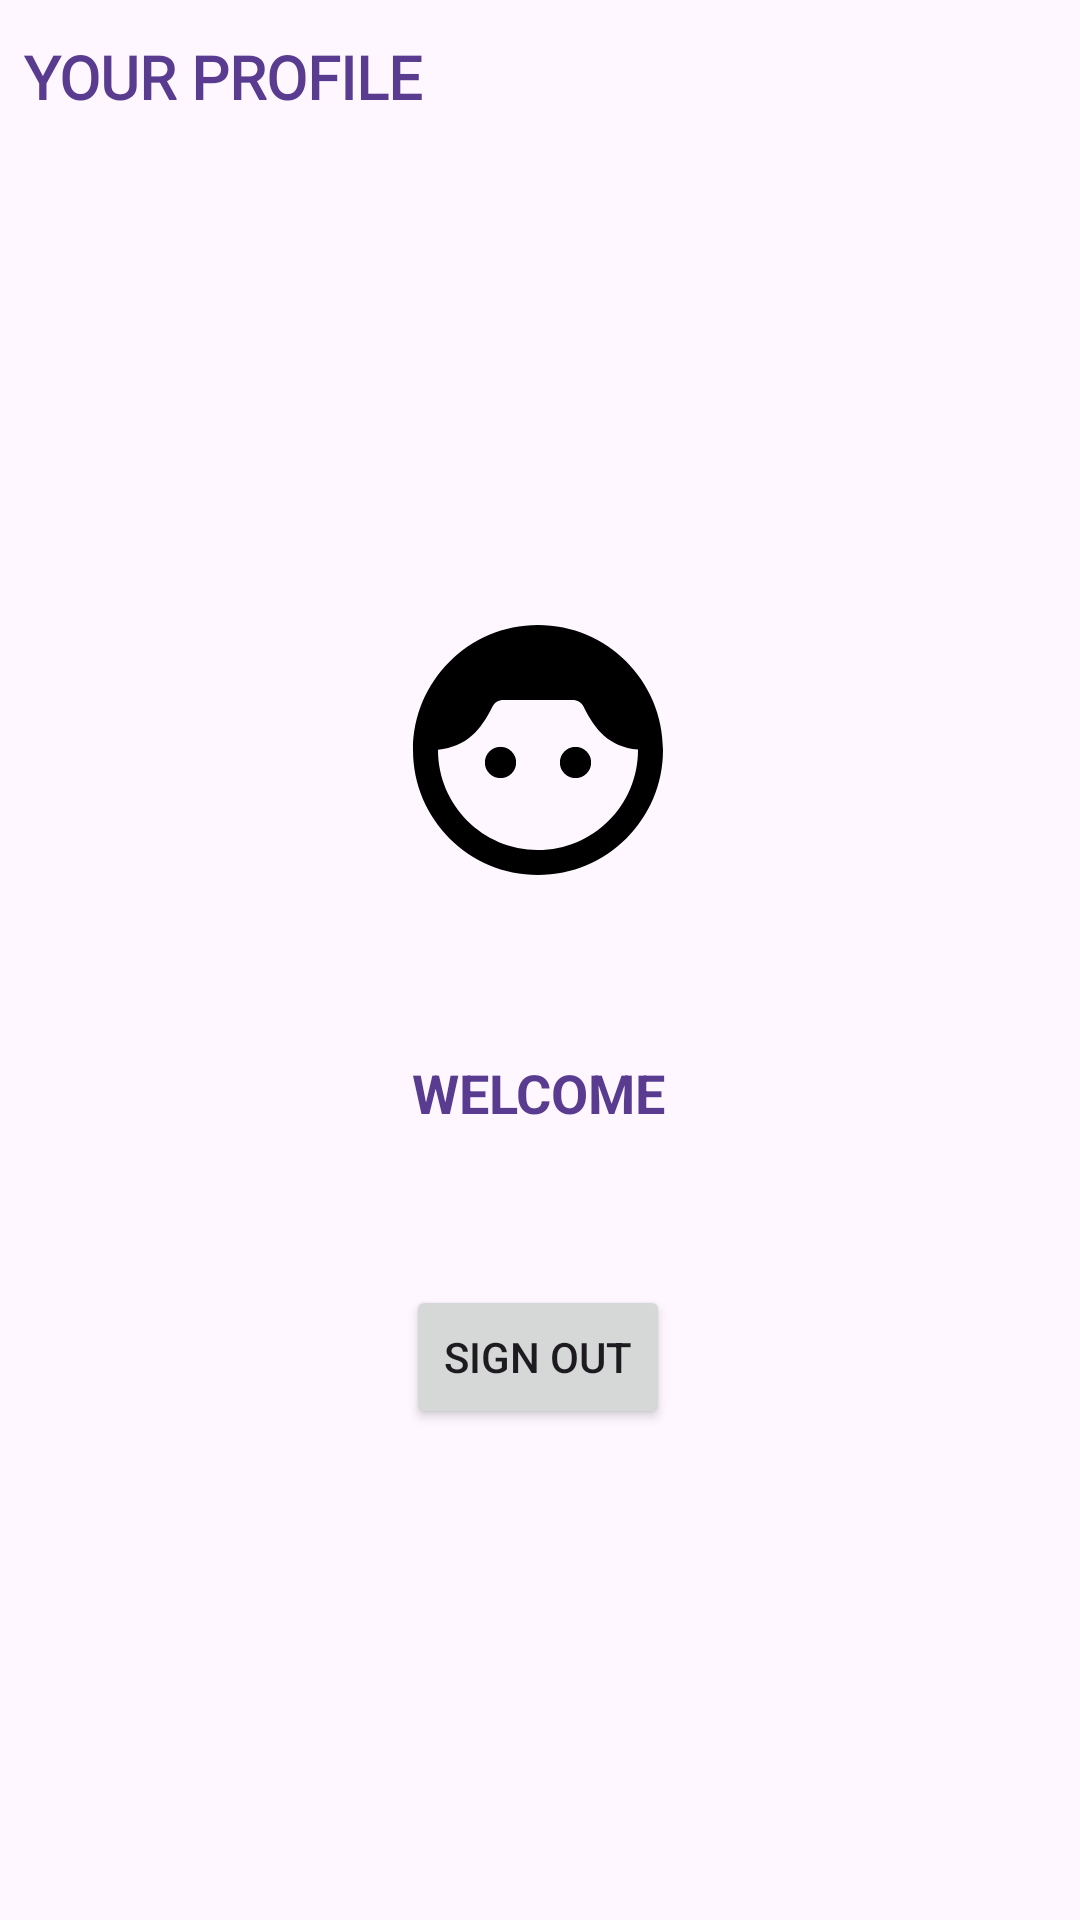

Screen size 1080×1920. Icon name, then its center in pixels as (x=x, y=y):
user: (x=538, y=750)
